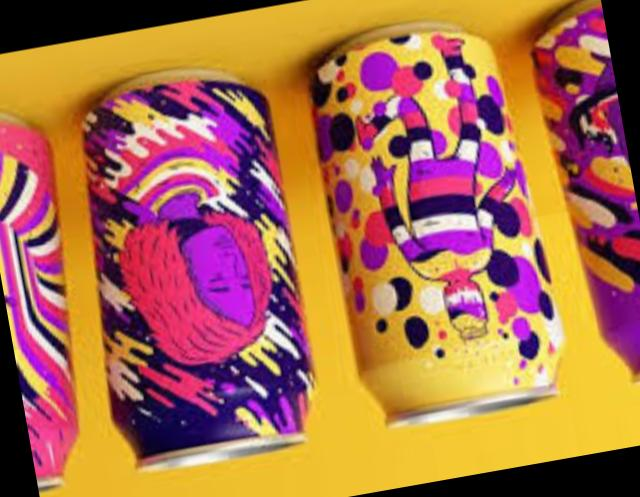metal: (314, 28, 559, 424), (82, 71, 313, 468)
